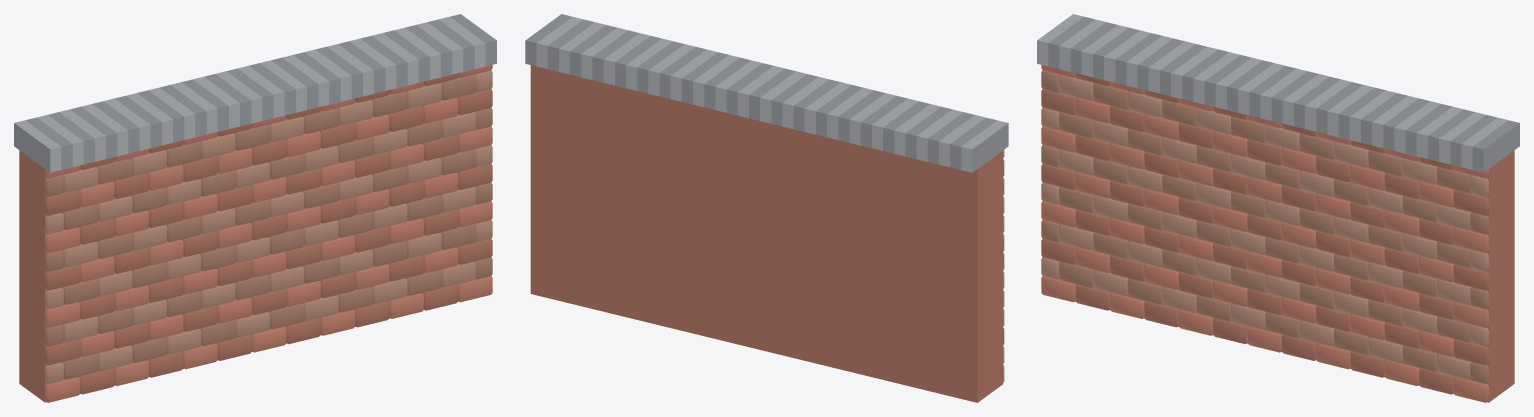
File: wall.glb
The picture shows the model from 3 angles, left to right: view 1: azimuth 30°, elevation 25°; view 2: azimuth 150°, elevation 25°; view 3: azimuth 330°, elevation 25°; orthographic projection.
Parts seen in each view (by area): view 1: Plane; view 2: Plane; view 3: Plane.
Part boxes in pixels (x1,y1,x2,y2): Plane: (14,14,496,402); Plane: (525,14,1008,402); Plane: (1037,14,1519,402).
Bounding box in the file's own units: 10 × 5.5 × 1.4.
